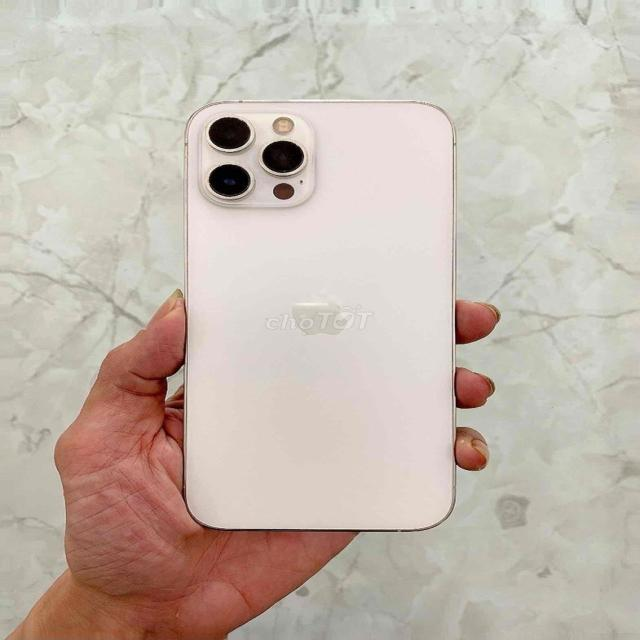gen_12_13: (181, 95, 464, 538)
